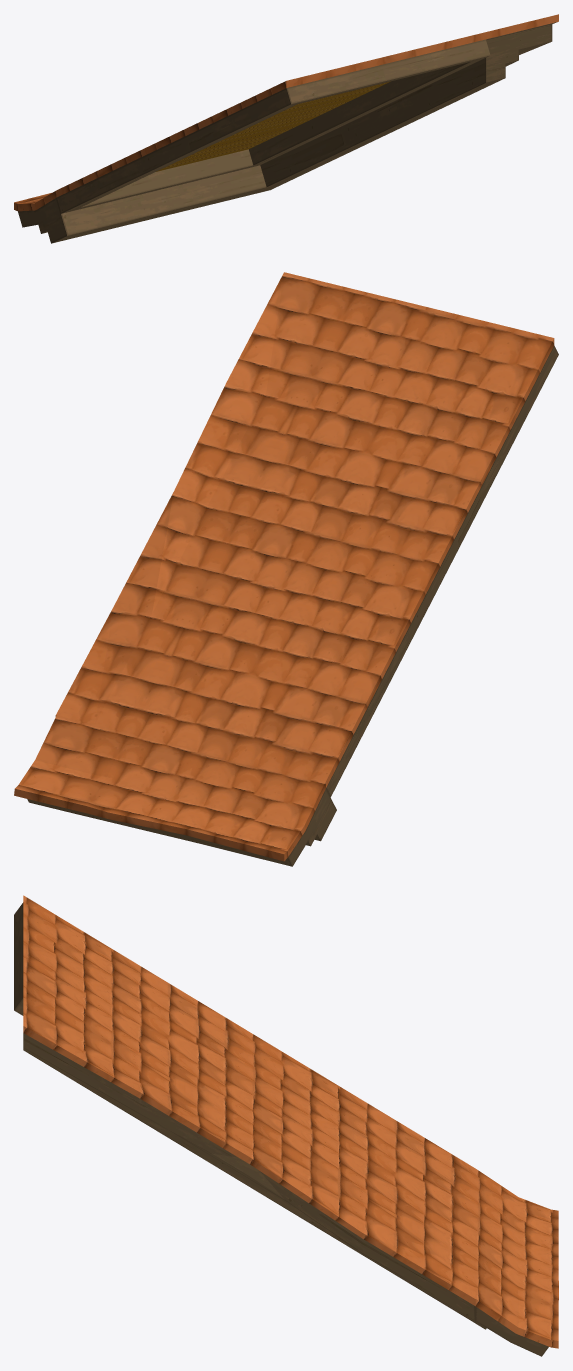
The model's file is SM_building_roof_20.glb.
3 views of the same model, one above another, from view 1: azimuth 30°, elevation 25°; view 2: azimuth 150°, elevation 25°; view 3: azimuth 270°, elevation 25° (orthographic).
Visible parts, largest first — view 1: SM_building_roof_20; view 2: SM_building_roof_20; view 3: SM_building_roof_20.
Part boxes in pixels (x1,y1,x2,y2): SM_building_roof_20: (14,14,558,243); SM_building_roof_20: (14,272,558,866); SM_building_roof_20: (14,895,558,1356).
Size of the model in its own units: 4.1 by 4.89 by 7.23.
Materials: 3 (3 with a texture image).
